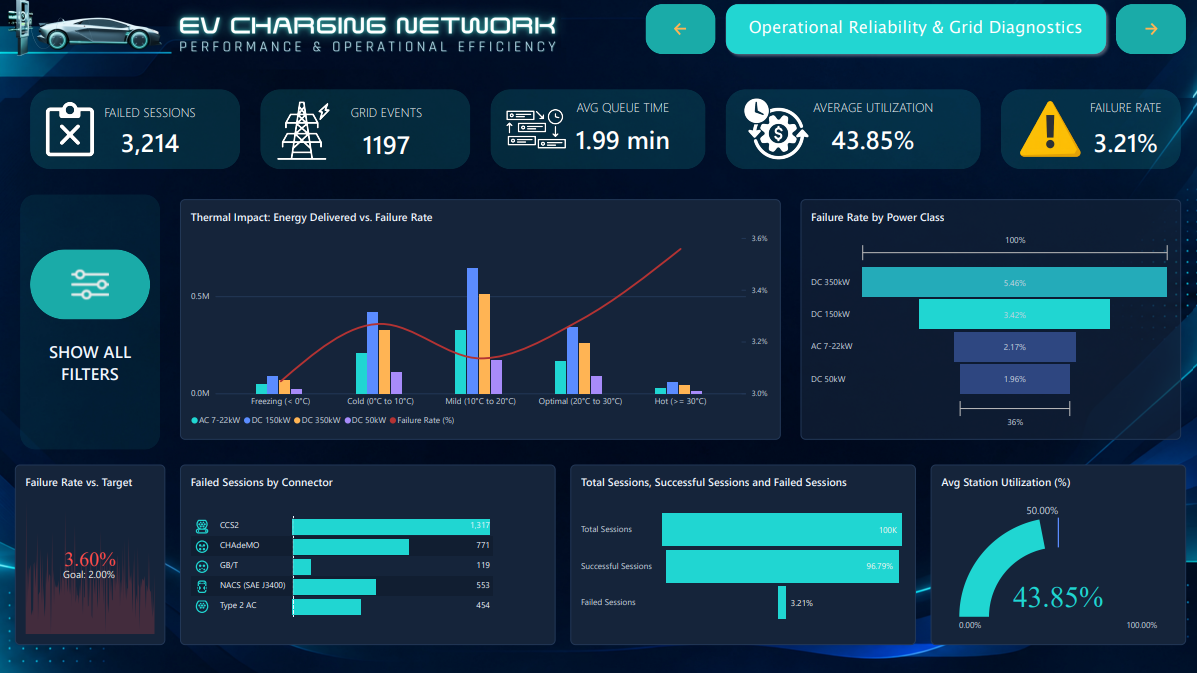

The dashboard page shown, as its layout file describes it:
{"tool":"powerbi","page":{"name":"Operational Reliability & Grid Diagnostics","canvas":[1920,1080],"ordinal":1},"visuals":[{"type":"shape","box":[32,312,224,408],"z":0},{"type":"actionButton","title":"Show Slicers","box":[48,400,192,112],"z":5000},{"type":"textbox","title":"SHOW ALL FILTERS","box":[48,544,192,128],"z":6000},{"type":"actionButton","box":[1784,8,112,80],"z":7000},{"type":"pageNavigator","box":[1152,0,624,96],"z":8000},{"type":"actionButton","box":[1032,8,112,80],"z":9000},{"type":"shape","box":[784,144,344,128],"z":10000},{"type":"shape","box":[416,144,336,128],"z":11000},{"type":"shape","box":[1600,144,288,128],"z":12000},{"type":"shape","box":[1160,144,408,128],"z":13000},{"type":"shape","box":[48,144,336,128],"z":14000},{"type":"card","title":"FAILED SESSIONS","fields":{"Values":["Calculated_table.Failed Sessions"]},"box":[136,152,208,112],"z":15000},{"type":"card","title":"GRID EVENTS","fields":{"Values":["Calculated_table.Grid Event Sessions"]},"box":[521.6,152,192,120],"z":16000},{"type":"card","title":"AVG QUEUE TIME","fields":{"Values":["Calculated_table.Avg Queue Time (min)"]},"box":[864,144,264,120],"z":17000},{"type":"card","title":"AVERAGE UTILIZATION","fields":{"Values":["Calculated_table.Avg Station Utilization (%)"]},"box":[1264,144,264,120],"z":18000},{"type":"card","title":"FAILURE RATE","fields":{"Values":["Calculated_table.Failure Rate (%)"]},"box":[1720,144,160,128],"z":19000},{"type":"tableEx","title":"Failed Sessions by Connector","fields":{"Values":["Calculated_table.Connector_Icon","connector_types.connector","Calculated_table.Failed Sessions"]},"box":[288,744,600,288],"z":20000},{"type":"gauge","fields":{"Y":["Calculated_table.Avg Station Utilization (%)"]},"box":[1488,744,408,288],"z":21000},{"type":"funnel","title":"Failure Rate by Power Class","fields":{"Category":["power_classes.power_class"],"Y":["Calculated_table.Failure Rate (%)"]},"box":[1280,320,608,384],"z":22000},{"type":"funnel","fields":{"Y":["Calculated_table.Total Sessions","Calculated_table.Successful Sessions","Calculated_table.Failed Sessions"]},"box":[912,744,552,288],"z":23000},{"type":"kpi","title":"Failure Rate vs. Target","fields":{"Goal":["Calculated_table.Failure Rate Target (%)"],"Indicator":["Calculated_table.Failure Rate (%)"],"TrendLine":["Dim_Date.Date"]},"box":[24,744,240,288],"z":24000},{"type":"lineClusteredColumnComboChart","title":"Thermal Impact: Energy Delivered vs. Failure Rate","fields":{"Category":["charging_sessions.Temp Band"],"Series":["power_classes.power_class"],"Y":["Calculated_table.Total Energy Delivered (kWh)"],"Y2":["Calculated_table.Failure Rate (%)"]},"box":[288,320,960,384],"z":25000},{"type":"image","box":[1184,152,112,112],"z":26000},{"type":"image","box":[1632,152,96,112],"z":27000},{"type":"image","box":[56,160,112,96],"z":28000},{"type":"image","box":[440,160,96,96],"z":29000},{"type":"image","box":[808,160,96,96],"z":30000}]}

Visuals, with their boxes in screenshot pixels (x1, y1, x2, y2), scaled from the page's 1920x1080 canvas onto the 1197x673 screenshot:
shape: bbox=[20, 194, 160, 449]
"Show Slicers" actionButton: bbox=[30, 249, 150, 319]
"SHOW ALL FILTERS" textbox: bbox=[30, 339, 150, 419]
actionButton: bbox=[1112, 5, 1182, 55]
pageNavigator: bbox=[718, 0, 1107, 60]
actionButton: bbox=[643, 5, 713, 55]
shape: bbox=[489, 90, 703, 169]
shape: bbox=[259, 90, 469, 169]
shape: bbox=[998, 90, 1177, 169]
shape: bbox=[723, 90, 978, 169]
shape: bbox=[30, 90, 239, 169]
"FAILED SESSIONS" card: bbox=[85, 95, 214, 165]
"GRID EVENTS" card: bbox=[325, 95, 445, 169]
"AVG QUEUE TIME" card: bbox=[539, 90, 703, 165]
"AVERAGE UTILIZATION" card: bbox=[788, 90, 953, 165]
"FAILURE RATE" card: bbox=[1072, 90, 1172, 169]
"Failed Sessions by Connector" tableEx: bbox=[180, 464, 554, 643]
gauge - Calculated_table.Avg Station Utilization (%): bbox=[928, 464, 1182, 643]
"Failure Rate by Power Class" funnel: bbox=[798, 199, 1177, 439]
funnel - Calculated_table.Total Sessions x Calculated_table.Successful Sessions: bbox=[569, 464, 913, 643]
"Failure Rate vs. Target" kpi: bbox=[15, 464, 165, 643]
"Thermal Impact: Energy Delivered vs. Failure Rate" lineClusteredColumnComboChart: bbox=[180, 199, 778, 439]
image: bbox=[738, 95, 808, 165]
image: bbox=[1017, 95, 1077, 165]
image: bbox=[35, 100, 105, 160]
image: bbox=[274, 100, 334, 160]
image: bbox=[504, 100, 564, 160]
